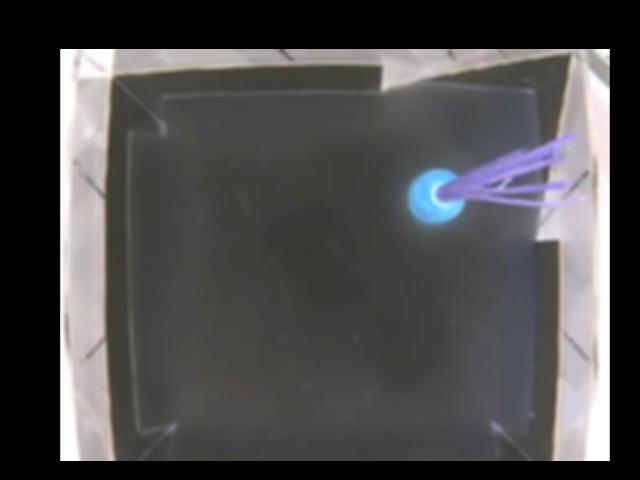Carrot: (406, 157, 519, 222)
